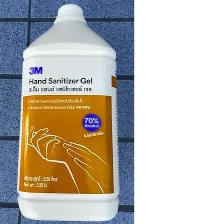cleaning_solution: (13, 2, 121, 224)
